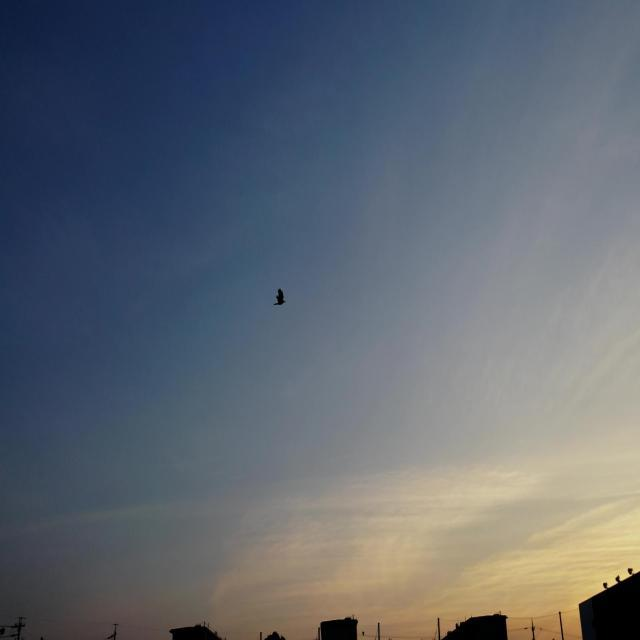Birds: (273, 287, 289, 311)
